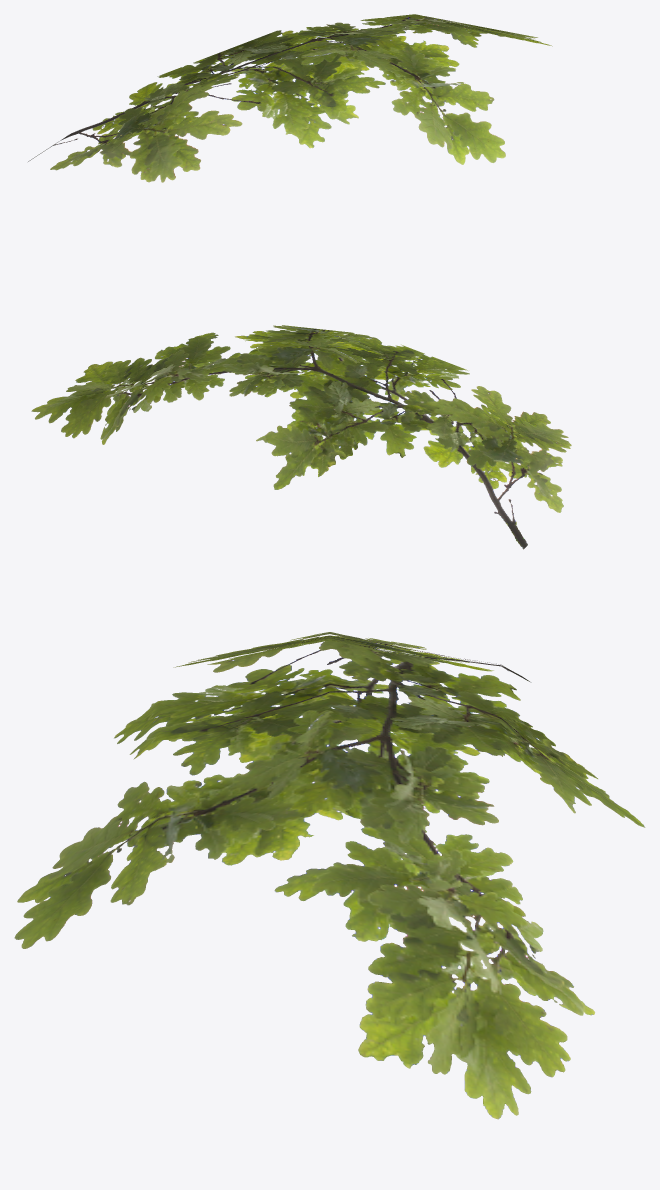
Rendered from Mesh Feuilles.FBX.
3 renders of one model, top to bottom at view 1: azimuth 30°, elevation 25°; view 2: azimuth 150°, elevation 25°; view 3: azimuth 270°, elevation 25°, orthographic. The views are drawn at different scales.
Visible parts, largest first — view 1: Plane001; view 2: Plane001; view 3: Plane001.
Boxes of the visible parts, bbox=[...] form: Plane001: bbox=[28, 14, 552, 182]; Plane001: bbox=[31, 325, 571, 549]; Plane001: bbox=[14, 632, 645, 1119].
Size of the model in its own units: 19.1 by 4.5 by 10.8.
1 material, 1 textured.
